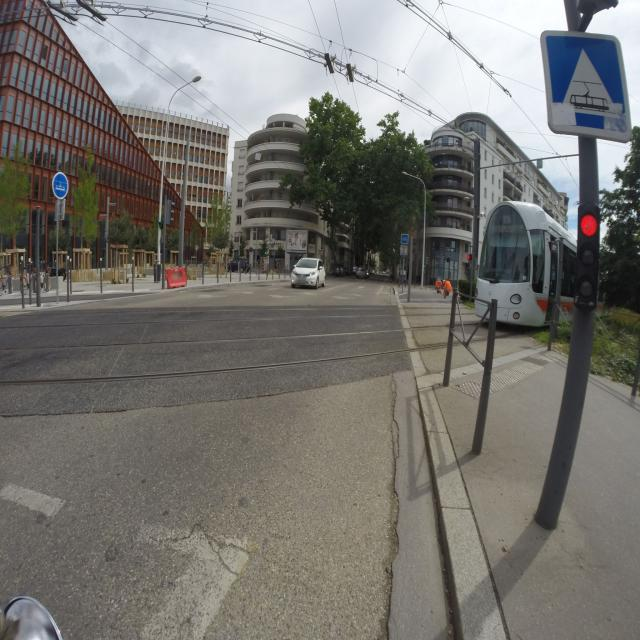forb_stopping: (249, 248, 253, 252)
